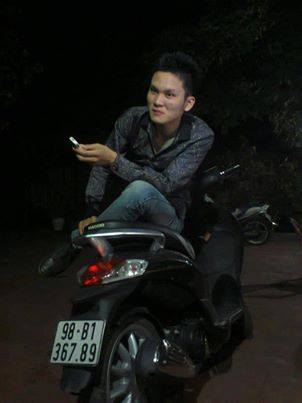bien_so: (47, 317, 110, 370)
